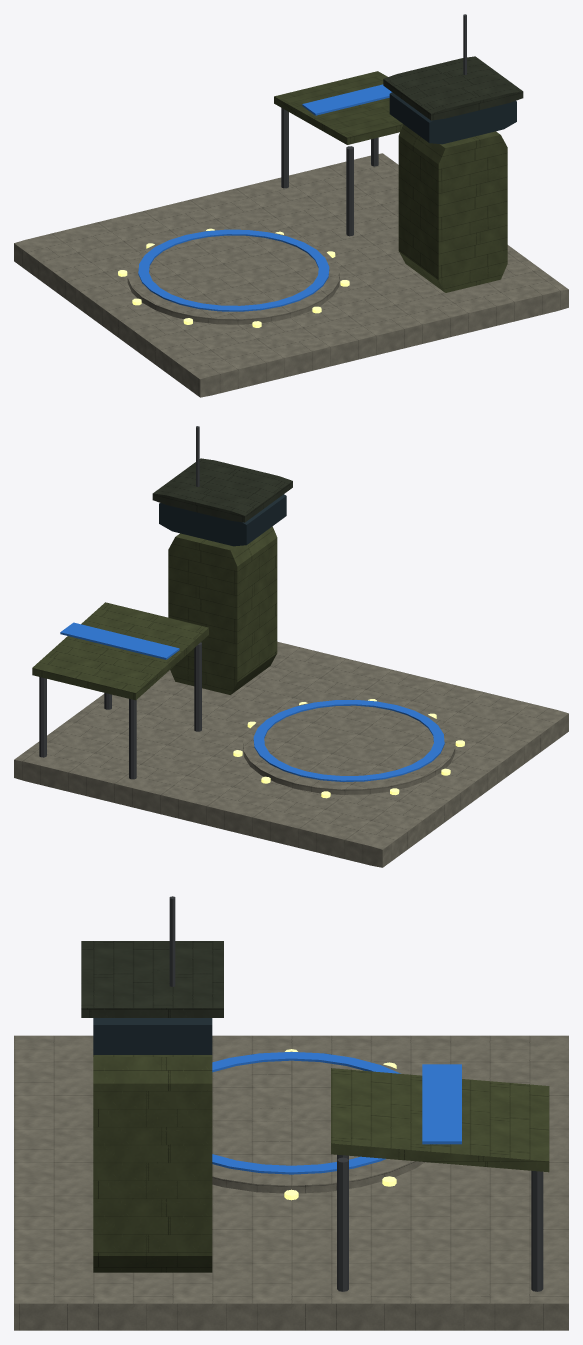
Rendered from militar_hangar.glb.
3 renders of one model, top to bottom at view 1: azimuth 30°, elevation 25°; view 2: azimuth 150°, elevation 25°; view 3: azimuth 270°, elevation 25°, orthographic. The views are drawn at different scales.
Visible parts, largest first — view 1: Body_Concrete, Body_Hull, Body_HullDark, Body_TeamColor, Body_Glass, Body_Metal, Body_Glow; view 2: Body_Concrete, Body_Hull, Body_HullDark, Body_TeamColor, Body_Glass, Body_Metal; view 3: Body_Concrete, Body_Hull, Body_HullDark, Body_TeamColor, Body_Glass, Body_Metal.
Part boxes in pixels (<box>): Body_Concrete: <box>14,153,568,397</box>; Body_Hull: <box>274,71,507,292</box>; Body_HullDark: <box>383,56,523,120</box>; Body_TeamColor: <box>138,84,391,311</box>; Body_Glass: <box>389,92,516,144</box>; Body_Metal: <box>281,14,466,236</box>; Body_Glow: <box>118,228,349,327</box>; Body_Concrete: <box>14,641,568,867</box>; Body_Hull: <box>32,526,277,700</box>; Body_HullDark: <box>152,458,292,522</box>; Body_TeamColor: <box>60,622,444,781</box>; Body_Glass: <box>159,494,286,546</box>; Body_Metal: <box>39,426,201,779</box>; Body_Concrete: <box>14,1035,568,1330</box>; Body_Hull: <box>93,1055,549,1272</box>; Body_HullDark: <box>81,941,223,1017</box>; Body_TeamColor: <box>212,1052,461,1174</box>; Body_Glass: <box>93,1018,212,1054</box>; Body_Metal: <box>169,896,543,1291</box>.
Size of the model in its own units: 16 by 11.05 by 14.
Materials: 7 (3 with a texture image).
